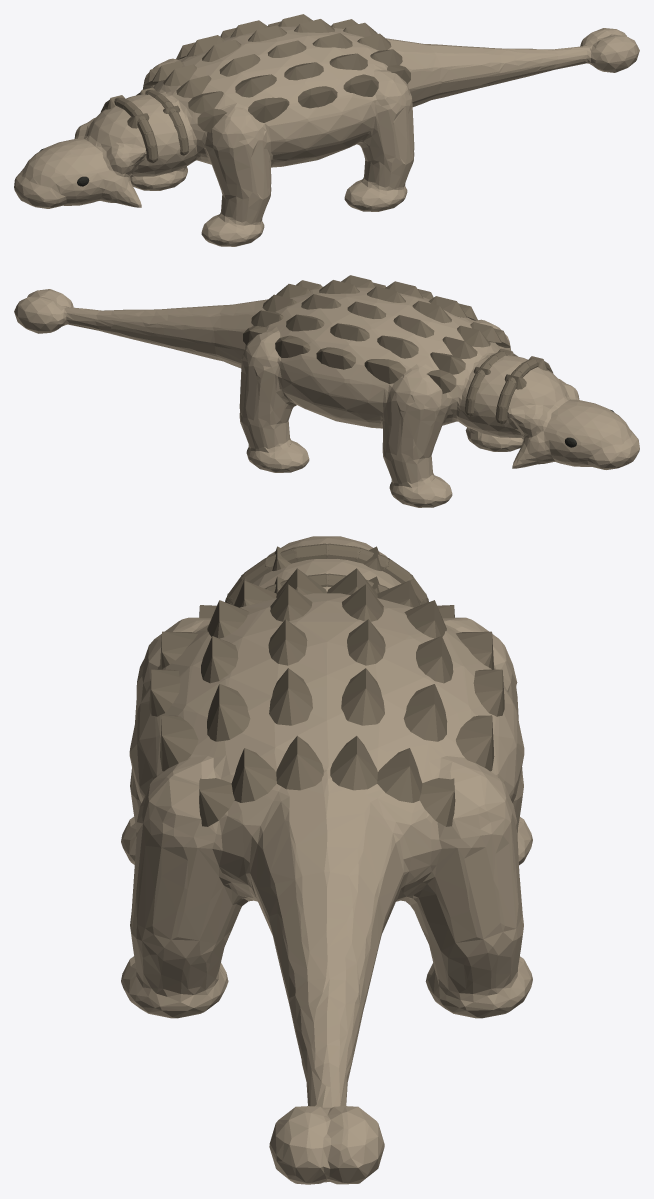
3 renders of one model, top to bottom at view 1: azimuth 30°, elevation 25°; view 2: azimuth 150°, elevation 25°; view 3: azimuth 270°, elevation 25°, orthographic. The views are drawn at different scales.
Visible parts, largest first — view 1: Euoplocephalus continuous skin; view 2: Euoplocephalus continuous skin; view 3: Euoplocephalus continuous skin.
Boxes of the visible parts, x1,y1,x2,y2 form: Euoplocephalus continuous skin: (14,14,639,246); Euoplocephalus continuous skin: (14,275,639,507); Euoplocephalus continuous skin: (121,536,532,1184).
Bounding box in the file's own units: 5.57 × 1.38 × 1.62.
